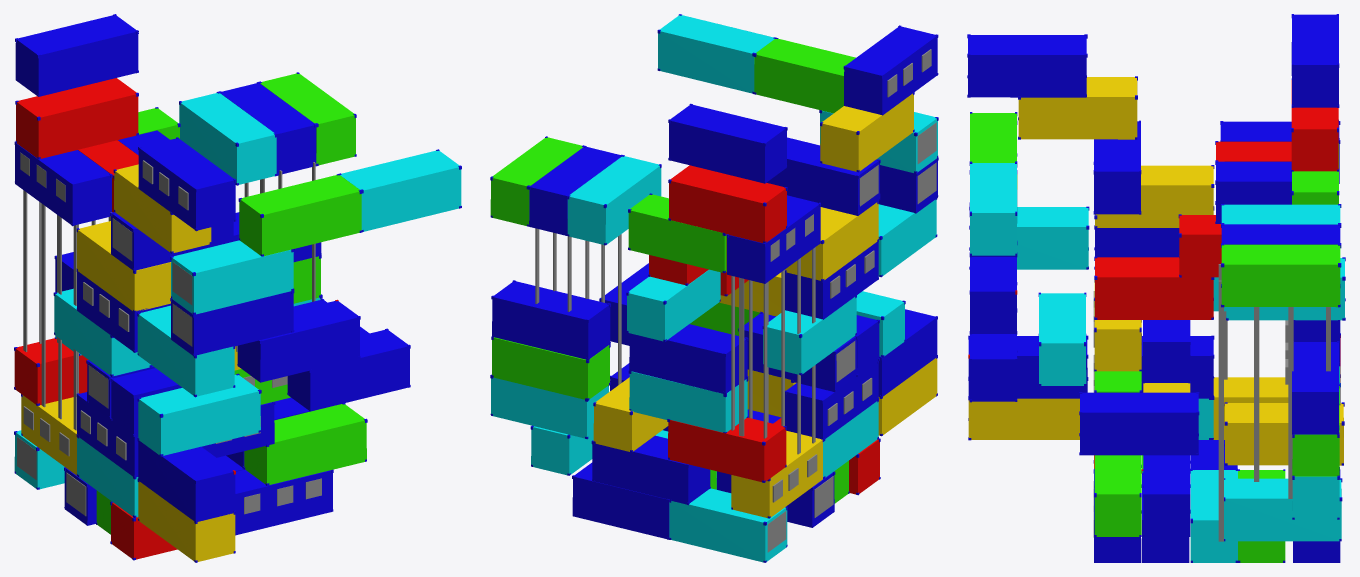
The model's file is ParentPart04FBX.FBX.
The picture shows the model from 3 angles, left to right: view 1: azimuth 30°, elevation 25°; view 2: azimuth 150°, elevation 25°; view 3: azimuth 270°, elevation 25°; orthographic projection. The views are drawn at different scales.
Visible parts, largest first — view 1: ParentPart4; view 2: ParentPart4; view 3: ParentPart4.
Boxes of the visible parts, x1,y1,x2,y2 form: ParentPart4: [14, 14, 461, 562]; ParentPart4: [490, 14, 938, 562]; ParentPart4: [967, 14, 1345, 562].
Bounding box in the file's own units: 5.88 × 6.53 × 8.55.
